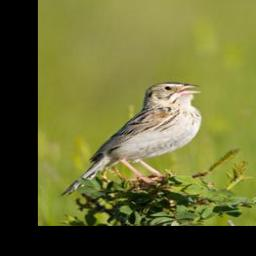Sparrow: (53, 81, 197, 198)
